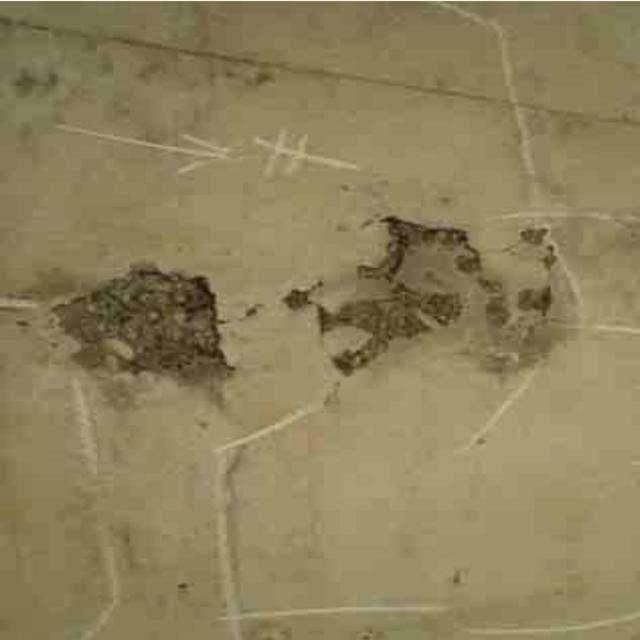spalling: (270, 153, 590, 426), (47, 251, 234, 413)
